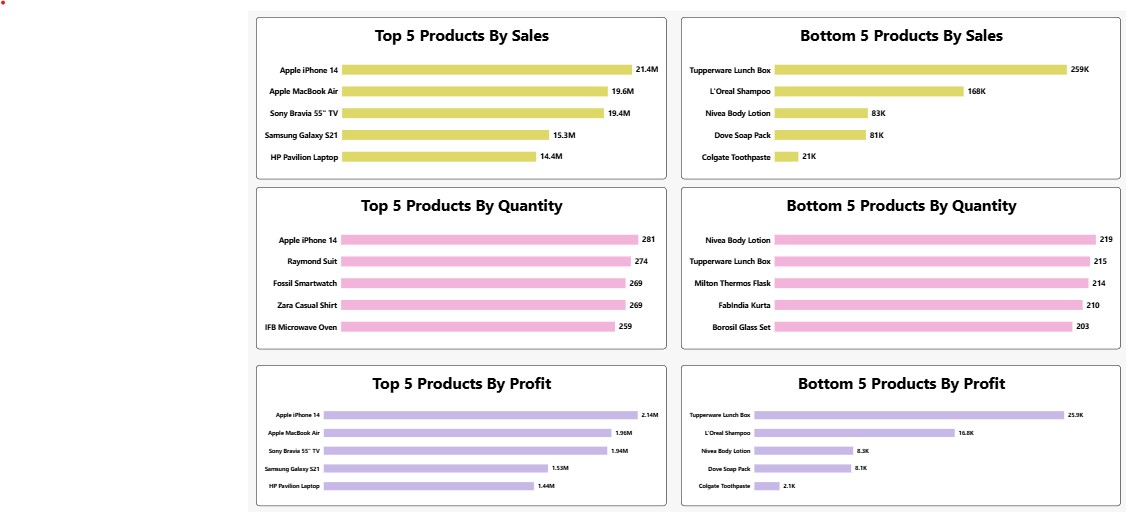

What the dashboard file says about the page in this screenshot:
{"tool":"powerbi","page":{"name":"Top/Bottom 5 Analysis","canvas":[1920,1080],"ordinal":1},"visuals":[{"type":"barChart","title":"Top 5 Products By Sales","fields":{"Category":["Dim Product.Product Name"],"Y":["Sum(Fact Table.Net Sales)"]},"box":[25,22.5,872.5,345],"z":0},{"type":"barChart","title":"Bottom 5 Products By Sales","fields":{"Category":["Dim Product.Product Name"],"Y":["Sum(Fact Table.Net Sales)"]},"box":[930,22.5,935,345],"z":1000},{"type":"barChart","title":"Top 5 Products By Quantity","fields":{"Category":["Dim Product.Product Name"],"Y":["Sum(Fact Table.Units Sold)"]},"box":[25,385,872.5,345],"z":2000},{"type":"barChart","title":"Bottom 5 Products By Quantity","fields":{"Category":["Dim Product.Product Name"],"Y":["Sum(Fact Table.Units Sold)"]},"box":[930,385,935,345],"z":3000},{"type":"barChart","title":"Top 5 Products By Profit","fields":{"Category":["Dim Product.Product Name"],"Y":["Sum(Fact Table.Profit)"]},"box":[25,762.5,872.5,300],"z":4000},{"type":"barChart","title":"Bottom 5 Products By Profit","fields":{"Category":["Dim Product.Product Name"],"Y":["Sum(Fact Table.Profit)"]},"box":[930,762.5,935,300],"z":4001}]}

Visuals, with their boxes on the page's 1920x1080 design canvas (x1, y1, x2, y2). These are canvas units, not pixel positions in the 1126x512 screenshot, which may show the page scaled, cropped or inside an application window:
"Top 5 Products By Sales" barChart: Rect(25, 22, 898, 368)
"Bottom 5 Products By Sales" barChart: Rect(930, 22, 1865, 368)
"Top 5 Products By Quantity" barChart: Rect(25, 385, 898, 730)
"Bottom 5 Products By Quantity" barChart: Rect(930, 385, 1865, 730)
"Top 5 Products By Profit" barChart: Rect(25, 762, 898, 1062)
"Bottom 5 Products By Profit" barChart: Rect(930, 762, 1865, 1062)
